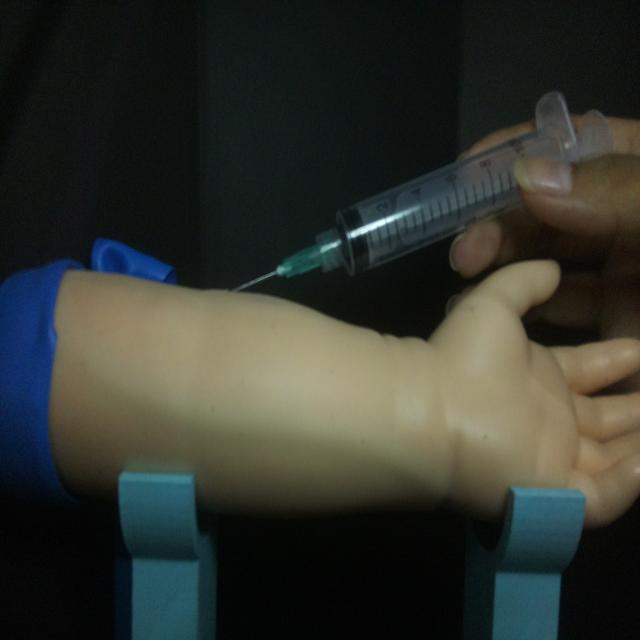21deg: (226, 88, 588, 296)
